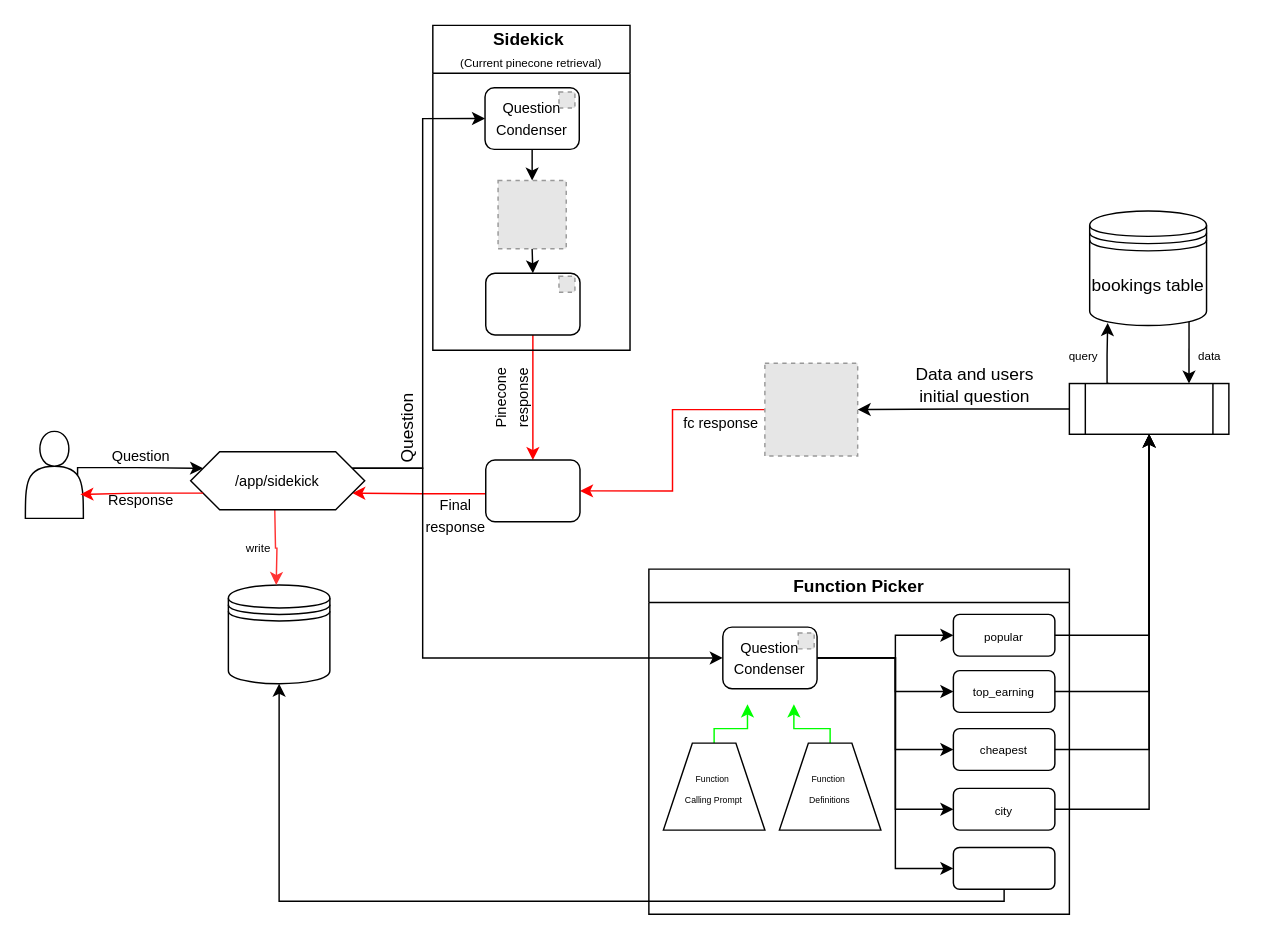
The diagram is 1279 pixels wide and 940 high, and some of its shapes have lost their labels. Grey dashed boxes stand in for pictures. The shapes that lost their labels are listed below. From the top down, each one's centre as x and y in pixels, then its label:
At (532,303): "Answer Condenser".
At (1148,408): "api/v1/sidekick/bookings".
At (532,490): "Answer Picker".
At (278,634): "ai fc response table".
At (1003,867): "none".
